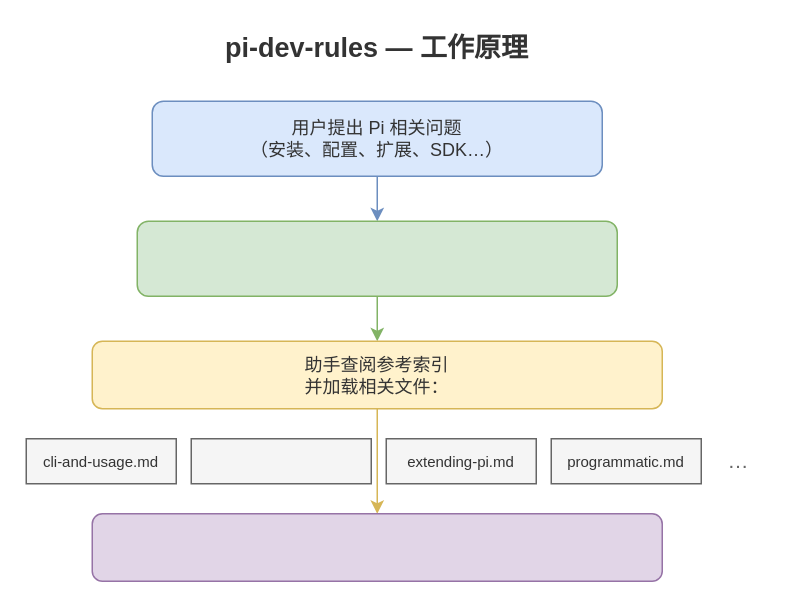
Some shapes in this 788 by 608 pixel diagram are drawn without their labels. The centre of each missing label's shape, as x and y in pixels:
providers-and-models.md: the point at 280,460
助手加载 SKILL.md （描述匹配用户问题）: the point at 376,258
助手基于参考内容回答 — 准确、最新、无需重新抓取: the point at 376,546
